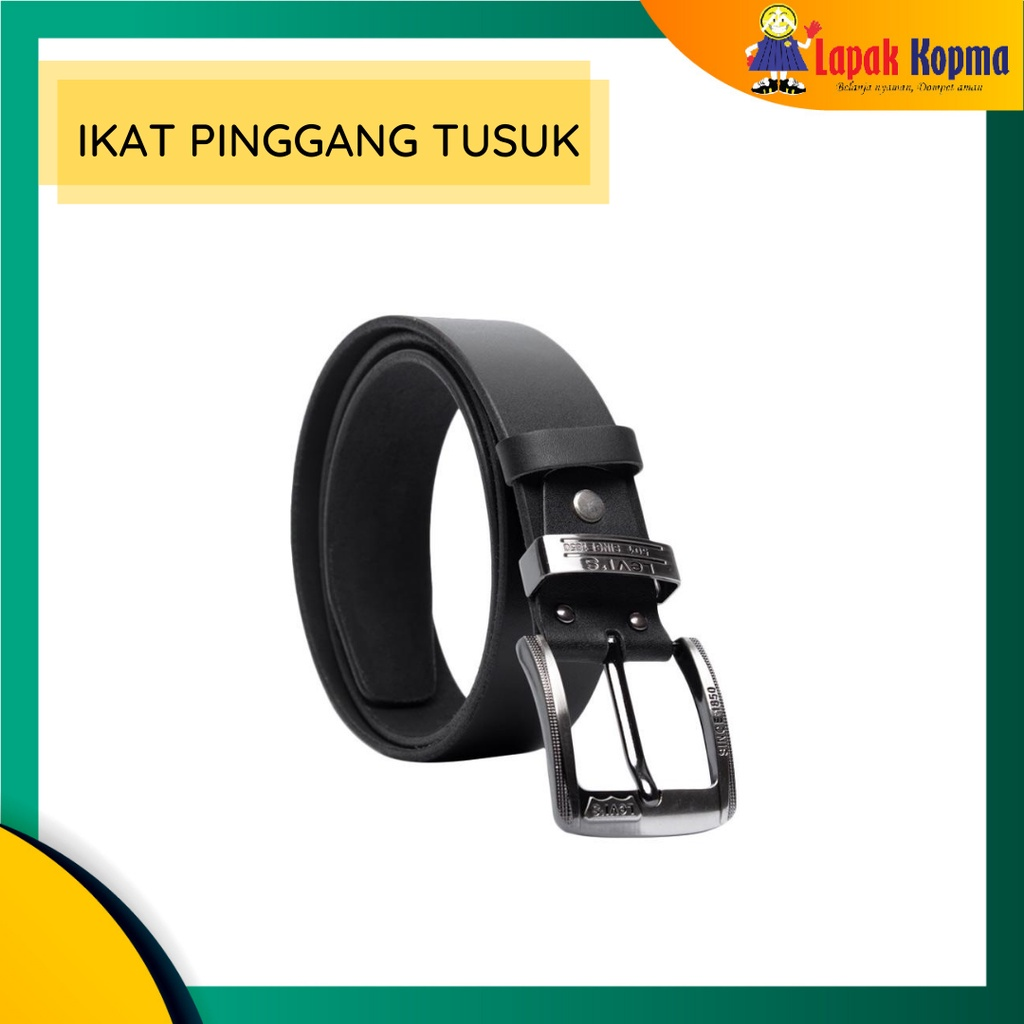sabuk_ada: (278, 317, 720, 785)
